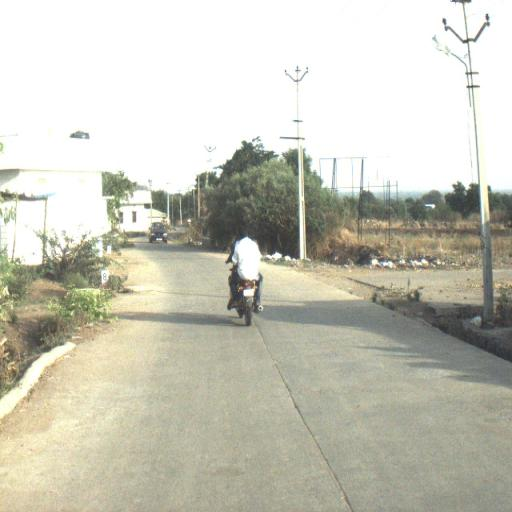street_light_0: (428, 35, 480, 107)
